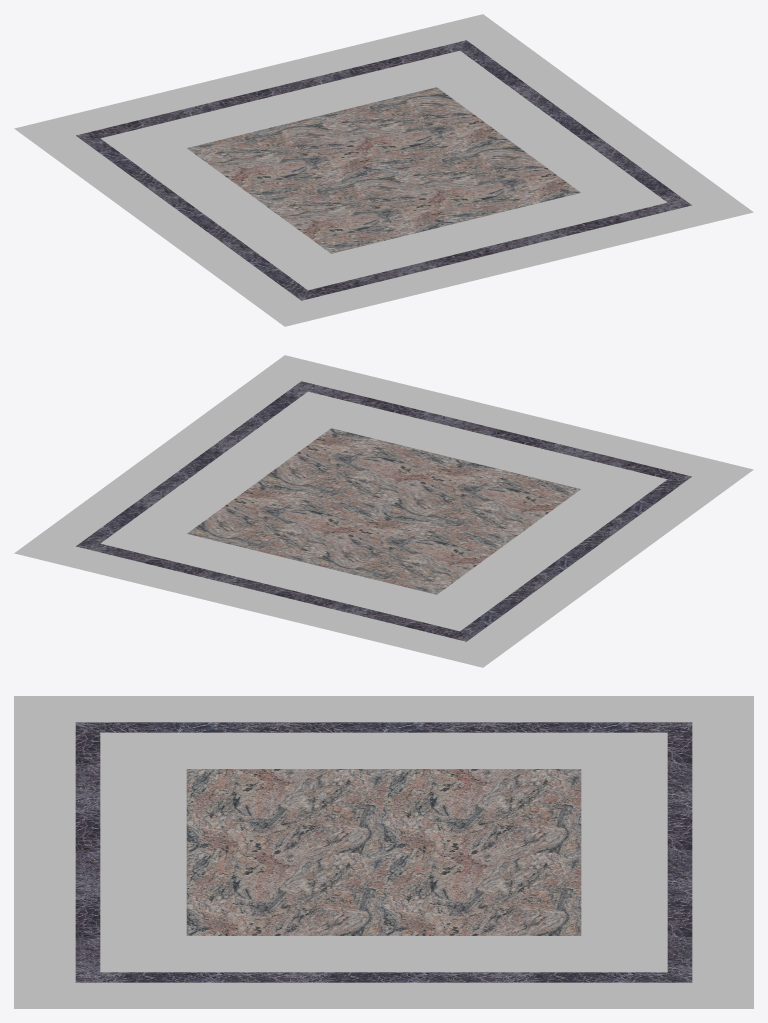
The model's file is Floor_2.FBX.
3 views of the same model, one above another, from view 1: azimuth 30°, elevation 25°; view 2: azimuth 150°, elevation 25°; view 3: azimuth 270°, elevation 25° (orthographic). The views are drawn at different scales.
Visible parts, largest first — view 1: Floor_2; view 2: Floor_2; view 3: Floor_2.
Boxes of the visible parts, x1,y1,x2,y2 form: Floor_2: [14, 14, 753, 326]; Floor_2: [14, 355, 753, 667]; Floor_2: [14, 696, 753, 1008].
Bounding box in the file's own units: 6 × 1.06e-06 × 6.
